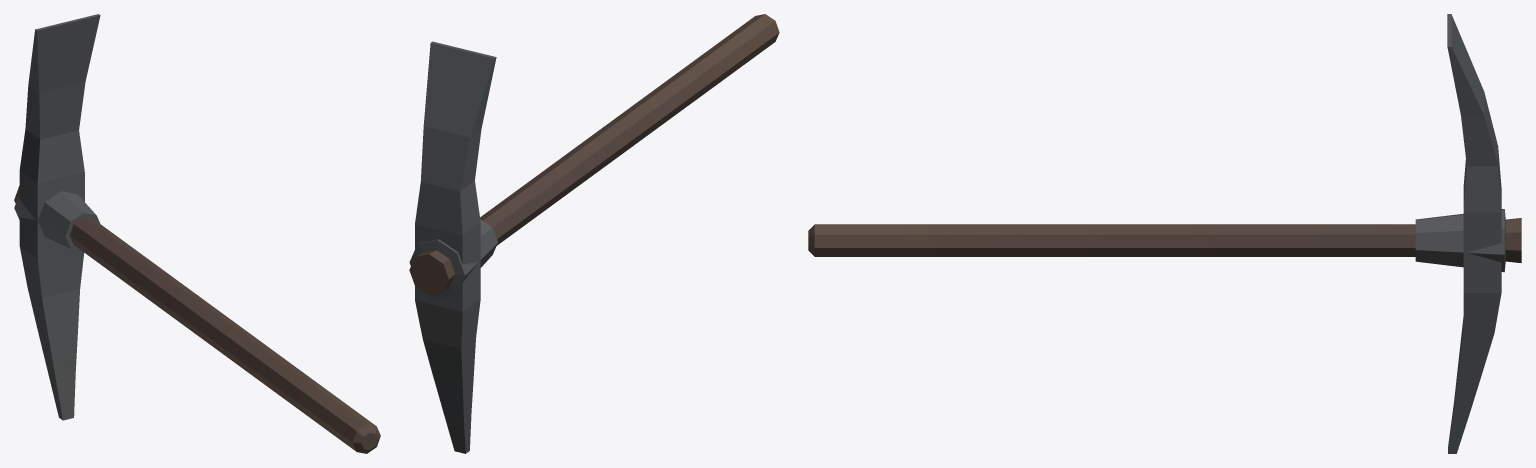
The picture shows the model from 3 angles, left to right: view 1: azimuth 30°, elevation 25°; view 2: azimuth 150°, elevation 25°; view 3: azimuth 270°, elevation 25°; orthographic projection. The views are drawn at different scales.
Parts seen in each view (by area): view 1: Pickaxe; view 2: Pickaxe; view 3: Pickaxe.
Boxes of the visible parts, x1,y1,x2,y2 form: Pickaxe: (14,14,380,453); Pickaxe: (409,14,779,453); Pickaxe: (808,14,1521,453).
Bounding box in the file's own units: 0.0848 × 0.5061 × 0.778.
1 material, 1 textured.
